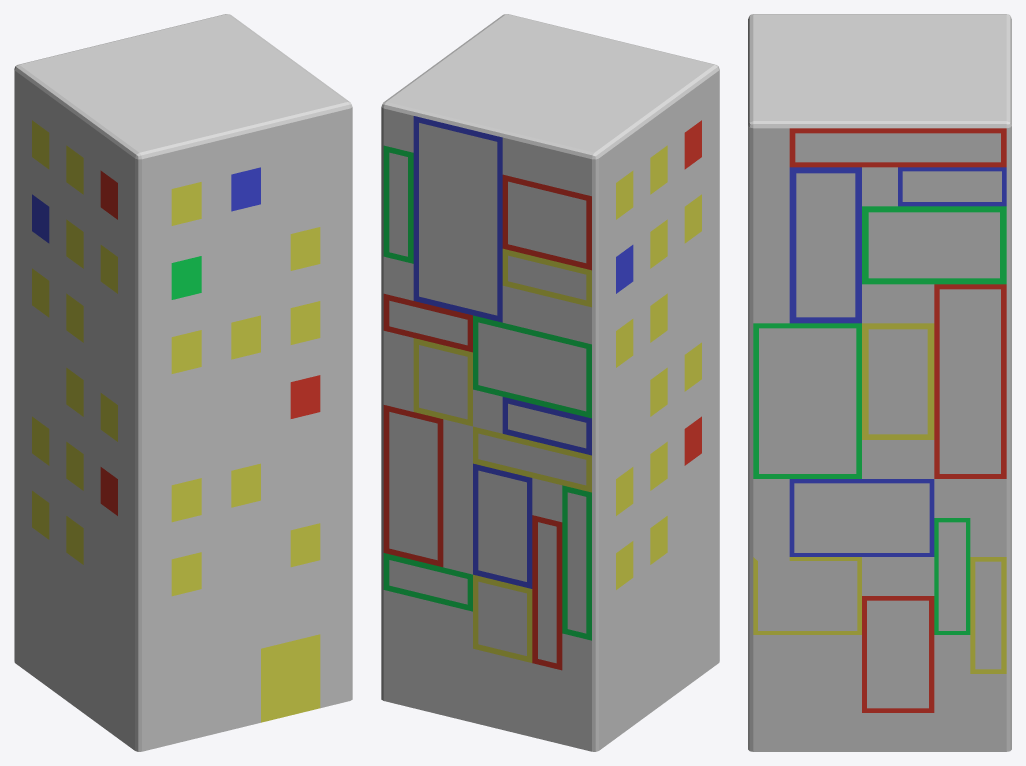
Rendered from panneau.fbx.
3 renders of one model, left to right at view 1: azimuth 30°, elevation 25°; view 2: azimuth 150°, elevation 25°; view 3: azimuth 270°, elevation 25°, orthographic. The views are drawn at different scales.
Parts seen in each view (by area): view 1: Cube; view 2: Cube; view 3: Cube.
Part boxes in pixels (x1,y1,x2,y2): Cube: (14,14,352,751); Cube: (381,14,719,751); Cube: (748,14,1011,751).
Bounding box in the file's own units: 8 × 8 × 21.03.
